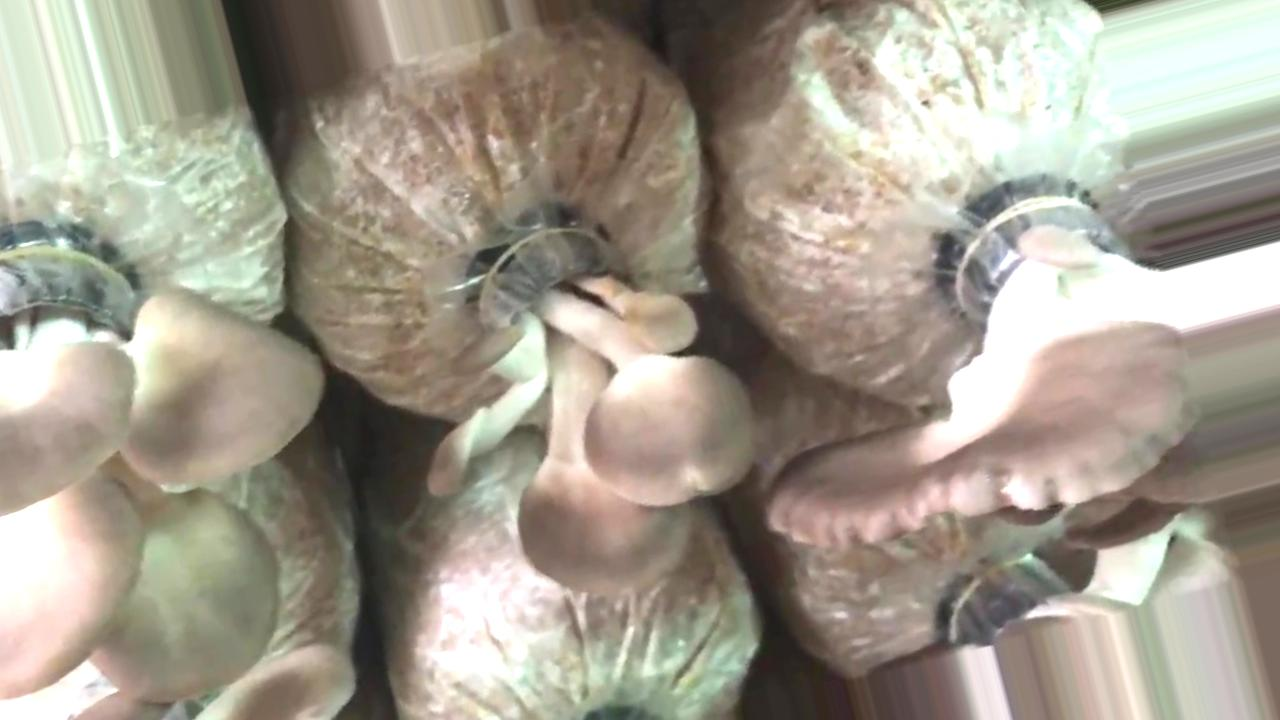nam: (778, 188, 1280, 538), (1, 252, 325, 702), (435, 213, 760, 600)
